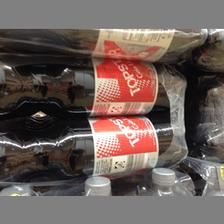Soda: (2, 114, 184, 182), (0, 51, 184, 112), (0, 29, 208, 51)
